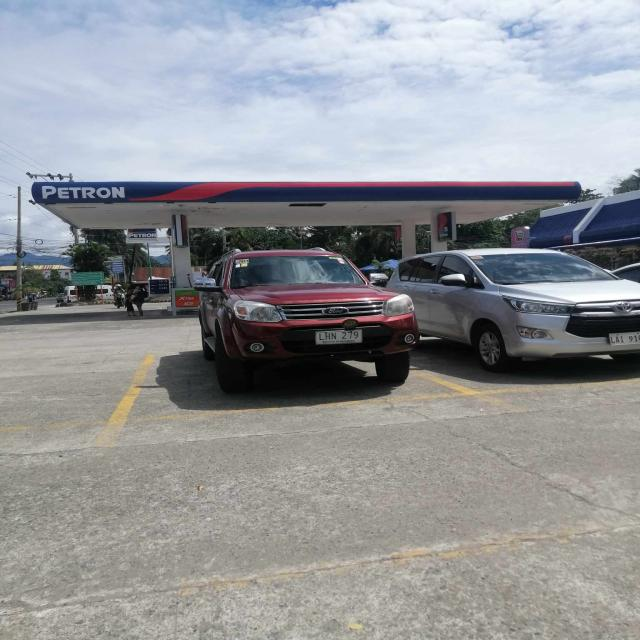license-plate: (315, 329, 364, 345), (608, 332, 640, 346)
